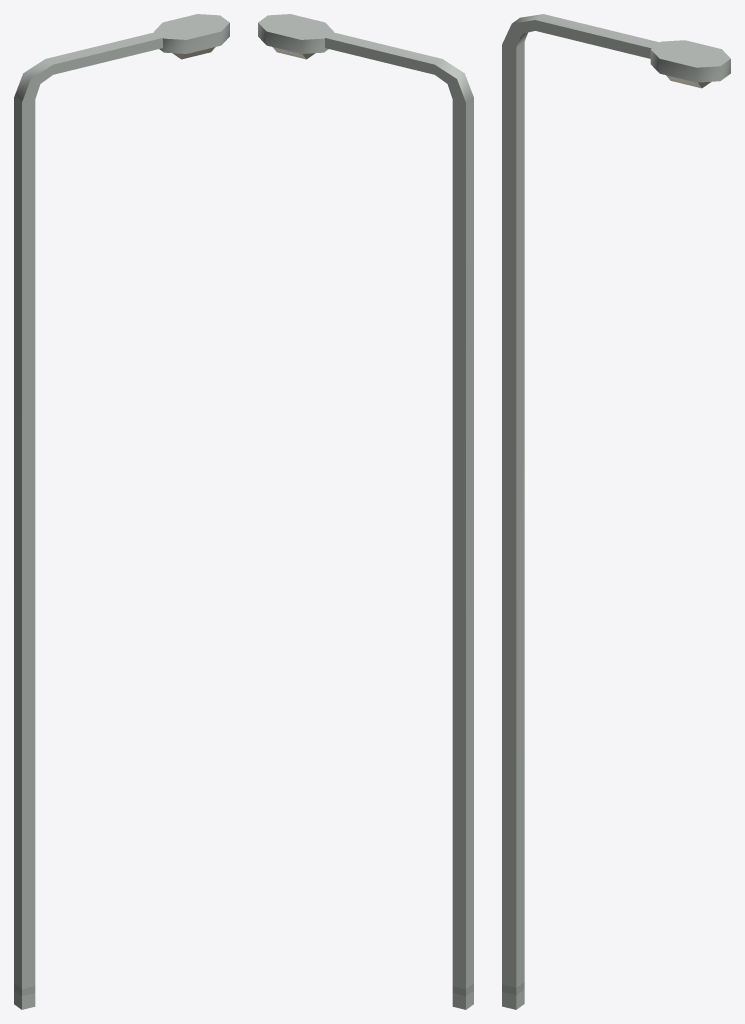
The model's file is 00f1_Lamp_Post.glb.
3 renders of one model, left to right at view 1: azimuth 30°, elevation 25°; view 2: azimuth 150°, elevation 25°; view 3: azimuth 330°, elevation 25°, orthographic. The views are drawn at different scales.
Visible parts, largest first — view 1: part_0; view 2: part_0; view 3: part_0.
Part boxes in pixels (left/top/right/bottom): part_0: left=14, top=14, right=229, bottom=1009; part_0: left=258, top=14, right=473, bottom=1009; part_0: left=502, top=14, right=730, bottom=1009.
Bounding box in the file's own units: 0.9237 × 4 × 0.1848.
1 material, 1 textured.
